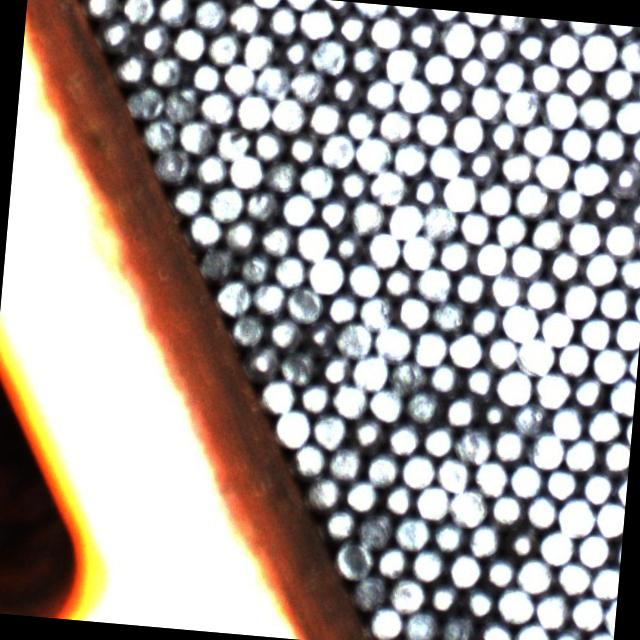tool: (494, 584, 534, 624), (332, 538, 372, 578), (306, 254, 346, 294), (494, 366, 534, 406), (384, 199, 424, 238), (448, 486, 488, 525), (553, 338, 592, 378), (515, 554, 554, 594), (373, 322, 412, 362), (152, 144, 192, 183), (371, 541, 410, 580), (351, 351, 390, 390), (388, 355, 427, 394), (526, 429, 565, 468), (500, 303, 539, 342), (176, 116, 215, 155), (233, 90, 271, 130), (454, 424, 492, 464), (420, 200, 458, 240), (272, 406, 310, 446), (516, 336, 554, 376), (278, 188, 316, 228), (538, 306, 576, 346), (418, 48, 456, 88), (503, 86, 542, 124), (534, 369, 572, 408), (532, 590, 570, 629), (288, 65, 326, 104), (559, 280, 598, 318), (540, 88, 578, 127), (590, 343, 628, 382), (568, 592, 606, 631), (556, 496, 594, 535), (448, 112, 487, 150), (356, 509, 394, 548), (349, 572, 388, 610), (542, 462, 580, 500), (398, 231, 436, 269), (491, 210, 529, 248), (482, 332, 520, 370), (314, 192, 352, 230), (410, 328, 448, 366), (440, 172, 478, 210), (413, 482, 451, 520), (564, 217, 602, 255), (471, 457, 509, 495), (490, 55, 528, 93), (430, 295, 468, 333), (576, 92, 614, 130), (506, 460, 544, 498), (326, 442, 364, 480), (382, 418, 420, 456), (528, 214, 566, 252), (269, 94, 307, 132), (578, 467, 616, 505), (242, 185, 280, 223), (388, 574, 426, 612), (570, 157, 608, 195), (446, 330, 484, 368), (393, 292, 431, 330), (336, 319, 374, 357), (354, 134, 392, 172), (435, 234, 473, 272), (598, 63, 636, 101), (266, 312, 304, 350), (396, 75, 434, 113), (408, 545, 446, 583), (476, 178, 514, 216), (580, 31, 618, 69), (286, 284, 324, 322), (532, 151, 570, 189), (390, 138, 428, 176), (393, 512, 431, 550), (584, 405, 622, 443), (368, 166, 406, 204), (507, 240, 545, 278), (278, 346, 316, 384), (538, 526, 576, 564), (309, 410, 347, 448), (513, 179, 551, 217), (404, 387, 442, 425), (580, 248, 618, 286), (357, 292, 395, 330), (250, 278, 288, 316), (424, 356, 462, 394), (126, 82, 164, 120), (464, 519, 502, 557), (434, 454, 472, 492), (548, 402, 586, 440), (554, 558, 592, 596), (244, 339, 281, 378), (295, 222, 332, 260), (253, 62, 290, 100), (382, 44, 419, 82), (306, 98, 343, 136), (342, 476, 379, 514), (290, 439, 328, 476), (602, 219, 639, 257), (213, 278, 250, 316), (348, 196, 386, 233), (298, 160, 335, 198), (100, 15, 138, 52), (365, 228, 402, 266), (331, 380, 368, 418), (198, 87, 235, 125), (596, 282, 633, 320), (412, 107, 449, 145), (226, 152, 264, 189), (147, 51, 185, 88), (419, 420, 456, 458), (366, 12, 404, 49), (544, 29, 582, 66), (439, 18, 476, 56), (574, 530, 612, 567), (376, 106, 414, 143), (207, 182, 244, 220), (319, 131, 356, 169), (551, 184, 588, 222), (192, 149, 230, 186), (327, 70, 364, 108), (222, 215, 259, 253), (379, 480, 416, 518), (520, 119, 558, 156), (136, 18, 174, 55), (427, 141, 464, 179), (170, 24, 207, 62), (576, 313, 614, 350), (302, 316, 339, 354), (262, 155, 300, 192), (366, 603, 404, 640), (185, 208, 222, 246), (562, 434, 599, 472), (345, 258, 382, 296), (456, 207, 493, 245), (480, 552, 518, 589), (569, 372, 607, 409), (429, 516, 467, 553), (316, 348, 353, 386), (511, 398, 548, 436), (468, 82, 505, 120), (348, 412, 385, 450), (498, 147, 536, 184), (464, 144, 501, 182), (322, 288, 360, 325), (526, 57, 563, 94), (523, 491, 560, 528), (455, 51, 492, 88), (546, 245, 583, 282), (170, 180, 207, 217), (399, 451, 436, 488), (404, 14, 441, 51), (434, 78, 471, 115), (364, 449, 401, 486), (406, 170, 443, 207), (258, 375, 295, 412), (213, 124, 250, 161), (415, 263, 452, 300), (304, 474, 341, 511), (198, 242, 235, 279), (502, 523, 539, 560), (113, 48, 150, 85), (330, 225, 367, 262), (333, 163, 370, 200), (346, 40, 383, 77), (472, 238, 508, 276), (206, 28, 242, 66), (311, 36, 347, 74), (466, 300, 502, 338), (446, 550, 482, 588), (220, 58, 256, 96), (488, 488, 524, 526), (240, 30, 276, 68), (342, 102, 378, 140), (522, 274, 560, 310), (284, 128, 320, 166), (270, 252, 308, 288), (368, 384, 404, 422), (236, 248, 274, 284), (486, 270, 524, 306), (450, 268, 488, 304), (562, 61, 598, 98), (362, 73, 398, 110), (230, 309, 266, 346), (258, 220, 295, 256), (485, 116, 522, 152), (264, 1, 300, 38), (558, 123, 594, 160), (462, 582, 498, 619), (296, 377, 332, 414), (277, 33, 314, 69), (298, 4, 334, 41), (476, 24, 512, 61), (592, 125, 628, 162), (140, 114, 177, 150), (490, 426, 527, 462), (380, 261, 416, 298), (162, 86, 198, 123), (442, 390, 478, 427), (401, 606, 440, 640), (512, 28, 548, 64), (462, 361, 498, 397), (322, 504, 358, 540), (187, 57, 223, 93), (426, 578, 462, 614), (250, 125, 286, 161), (587, 188, 623, 224), (226, 0, 263, 35), (334, 7, 369, 44), (592, 499, 626, 537), (476, 394, 512, 429), (607, 160, 640, 198), (438, 609, 477, 640), (191, 0, 228, 32), (589, 562, 620, 600), (599, 437, 631, 473), (607, 376, 636, 414), (611, 314, 640, 351), (613, 95, 640, 133), (155, 0, 192, 27), (476, 616, 514, 640), (616, 34, 640, 72), (119, 0, 156, 24), (616, 252, 640, 288), (513, 620, 551, 640), (494, 14, 530, 33), (84, 0, 120, 19), (548, 622, 585, 640), (602, 24, 638, 40), (624, 192, 640, 227), (566, 20, 601, 36), (628, 129, 640, 165), (583, 627, 614, 640), (633, 67, 640, 104)
